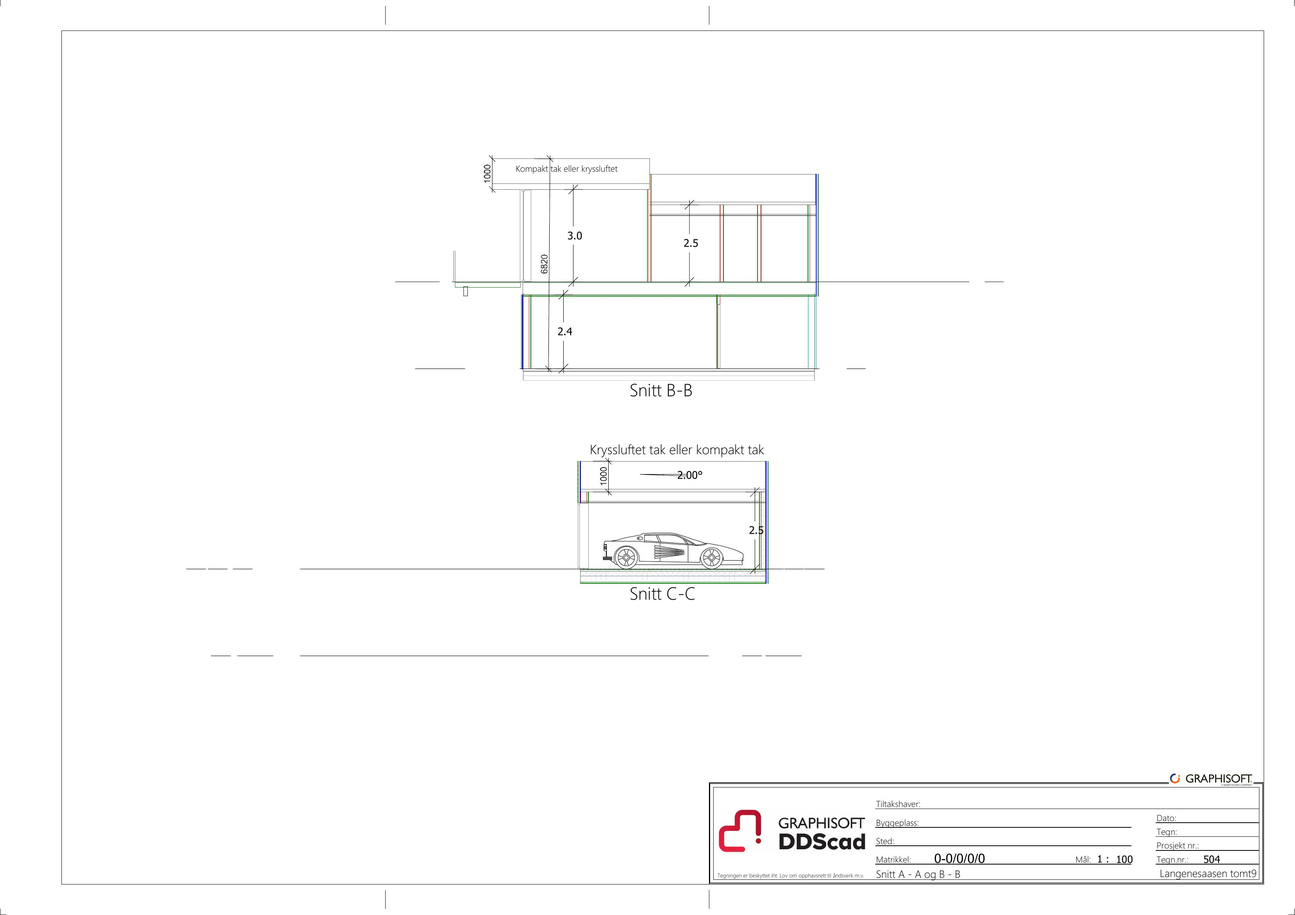snitt: (465, 133, 840, 389), (543, 446, 802, 591)
tekst: (628, 584, 700, 604), (626, 381, 693, 400), (1095, 854, 1136, 866)
